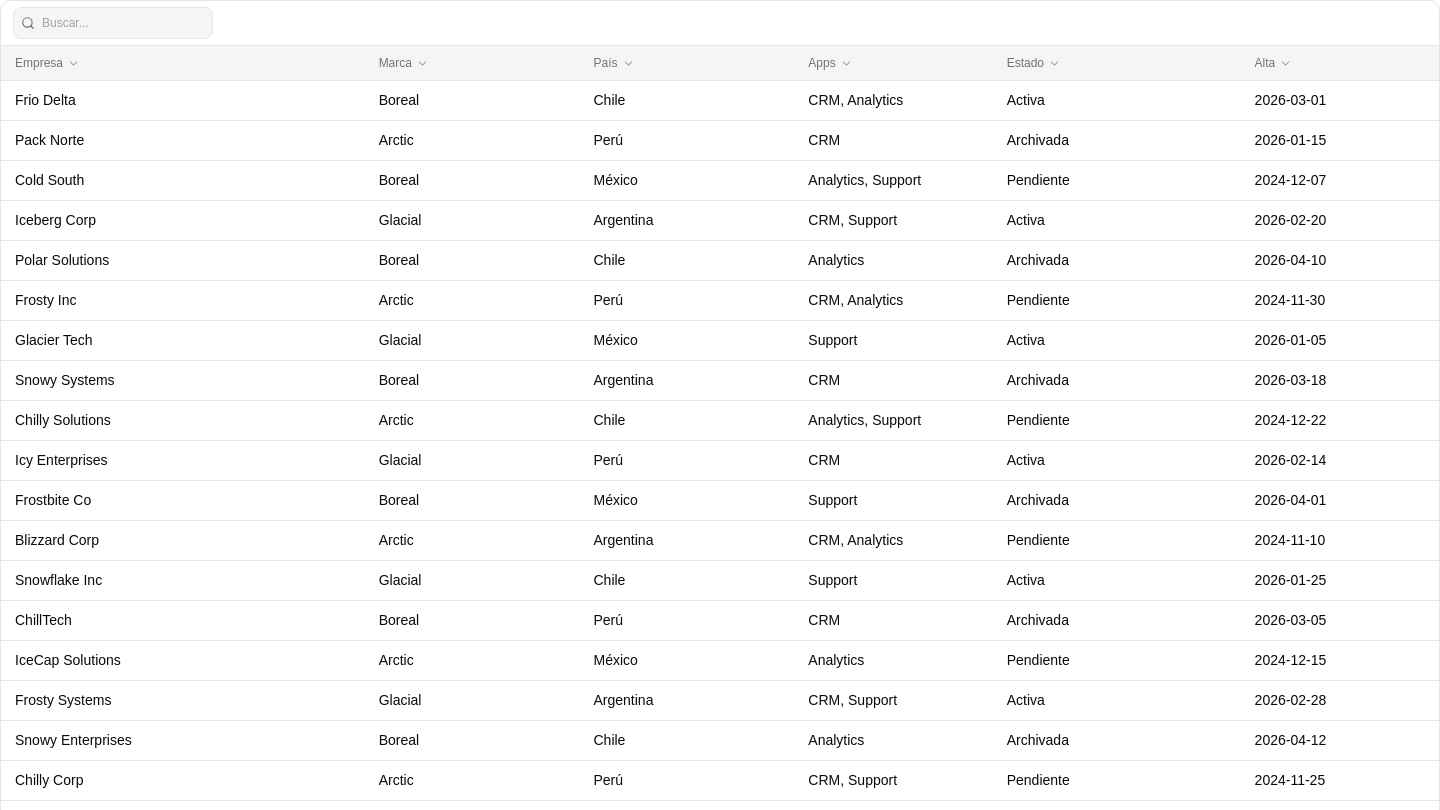
Scenario: filters by value and clears from the toolbar
Click the button "Estado".
click(1117, 63)  # box [1007,54,1227,72]
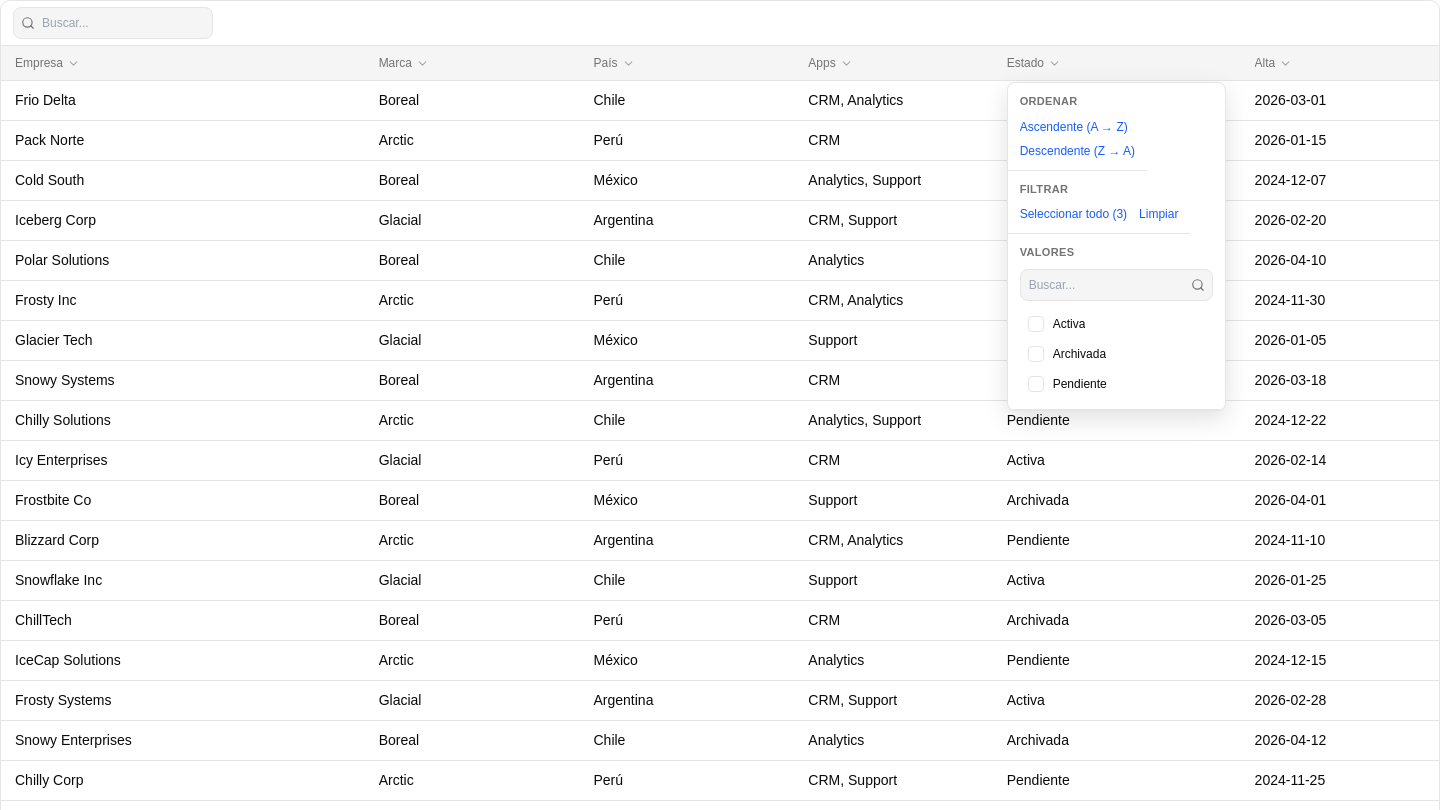
Click the button "Activa".
click(1116, 324)  # box [1020,308,1213,338]
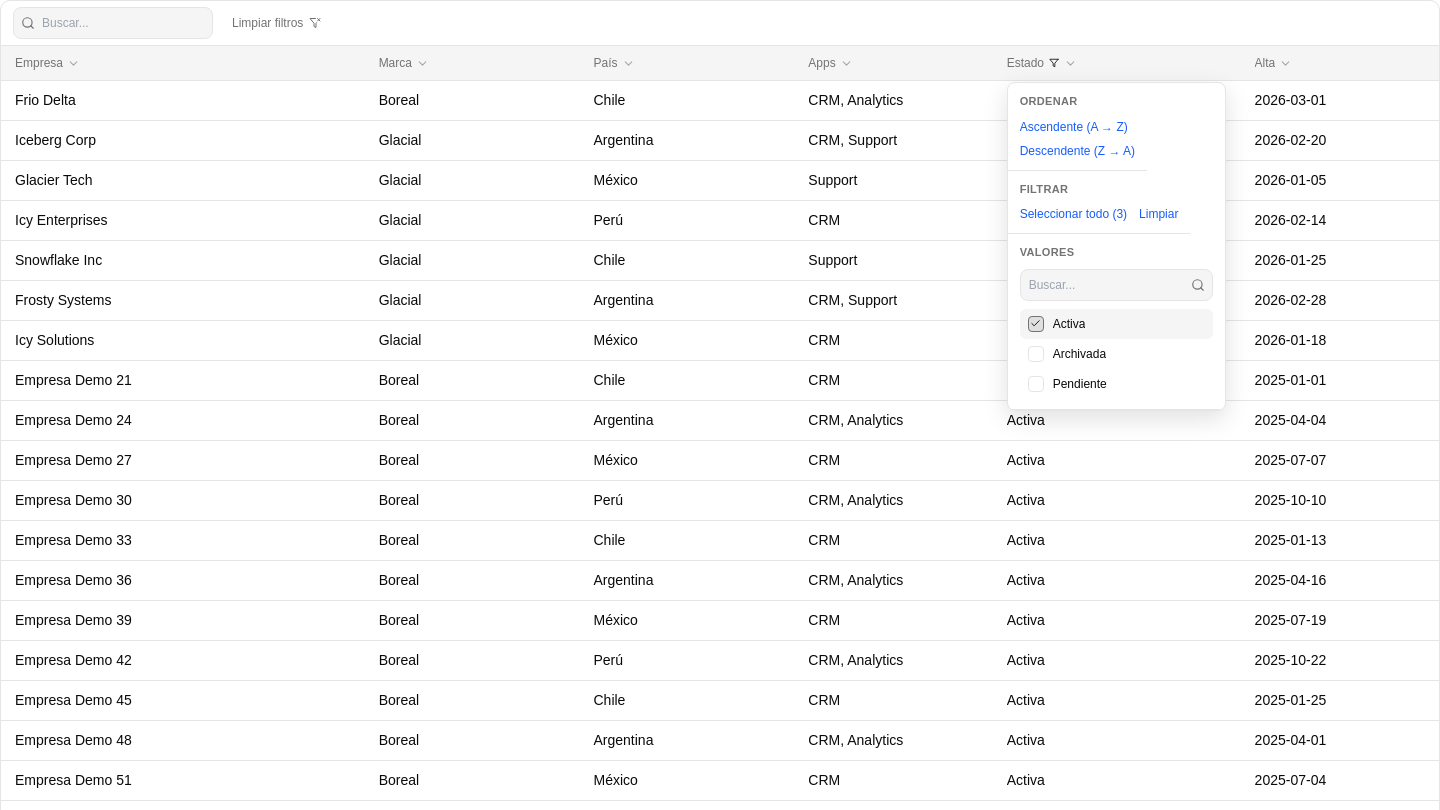
Expected: the number of rows with class "gdy-table-row" is 27
Click the button "Limpiar filtros".
click(277, 23)  # box [221,7,332,39]
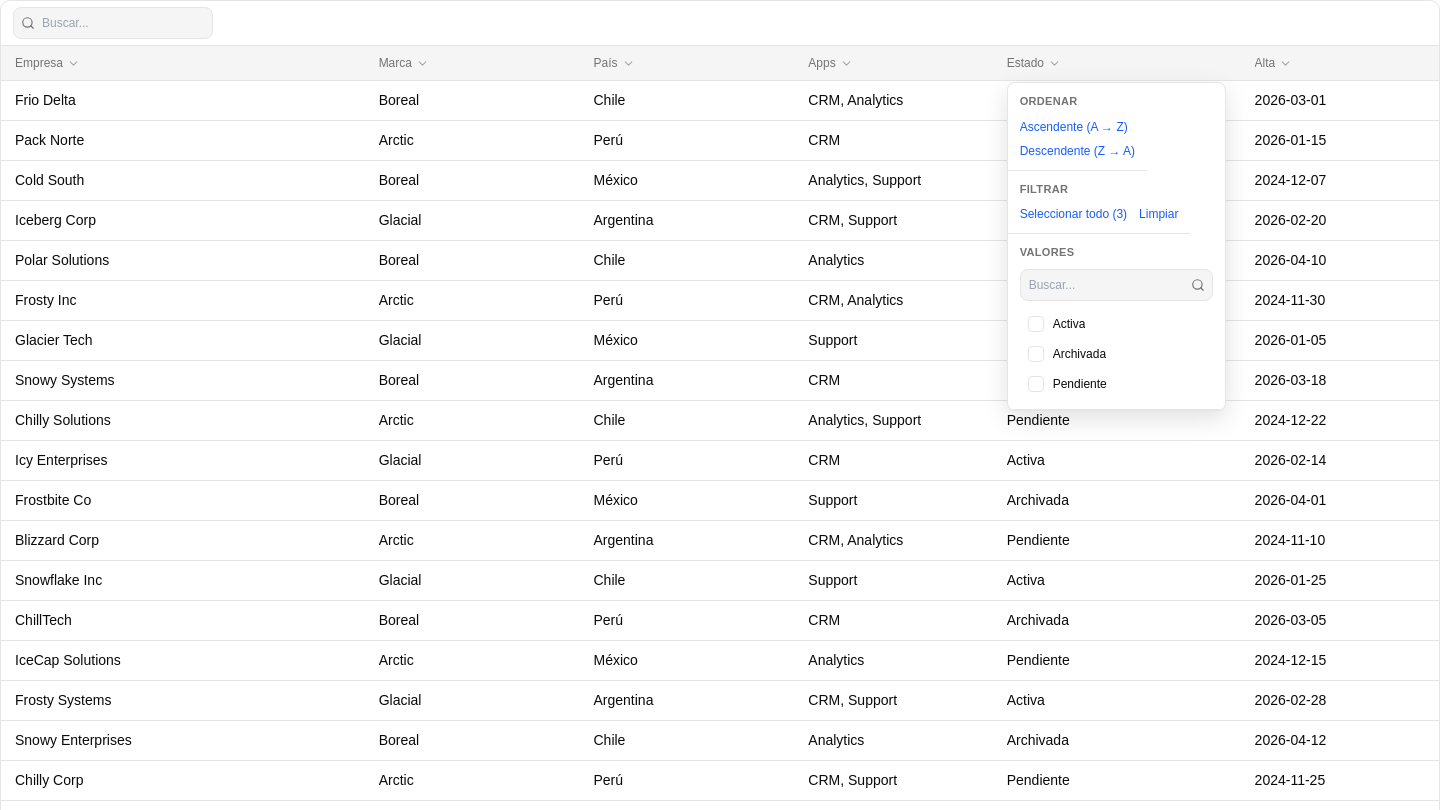
Expected: the number of rows with class "gdy-table-row" is 80
